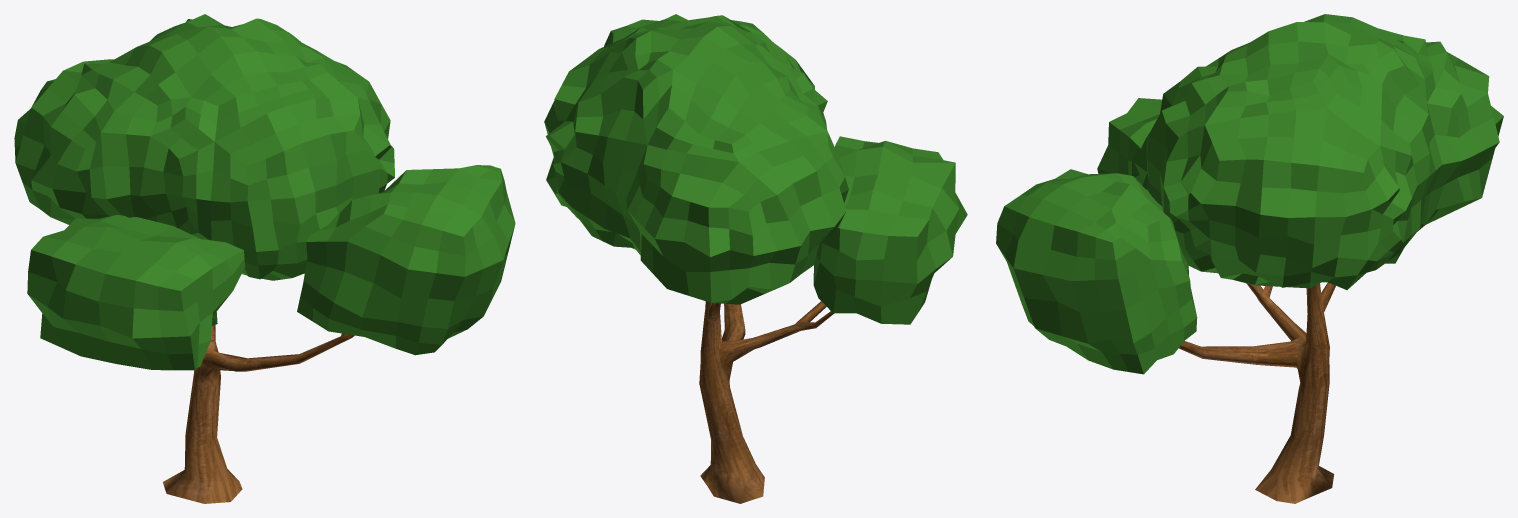
The model's file is Tree.glb.
The picture shows the model from 3 angles, left to right: view 1: azimuth 30°, elevation 25°; view 2: azimuth 150°, elevation 25°; view 3: azimuth 270°, elevation 25°; orthographic projection. The views are drawn at different scales.
Parts seen in each view (by area): view 1: Cube.002; view 2: Cube.002; view 3: Cube.002.
Boxes of the visible parts, left/top/right/bottom form: Cube.002: left=14, top=14, right=515, bottom=503; Cube.002: left=544, top=14, right=967, bottom=503; Cube.002: left=996, top=14, right=1503, bottom=503.
Bounding box in the file's own units: 11.91 × 12.93 × 12.59.
2 materials, 1 textured.
